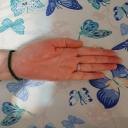OpenPalm: (15, 36, 121, 82)
